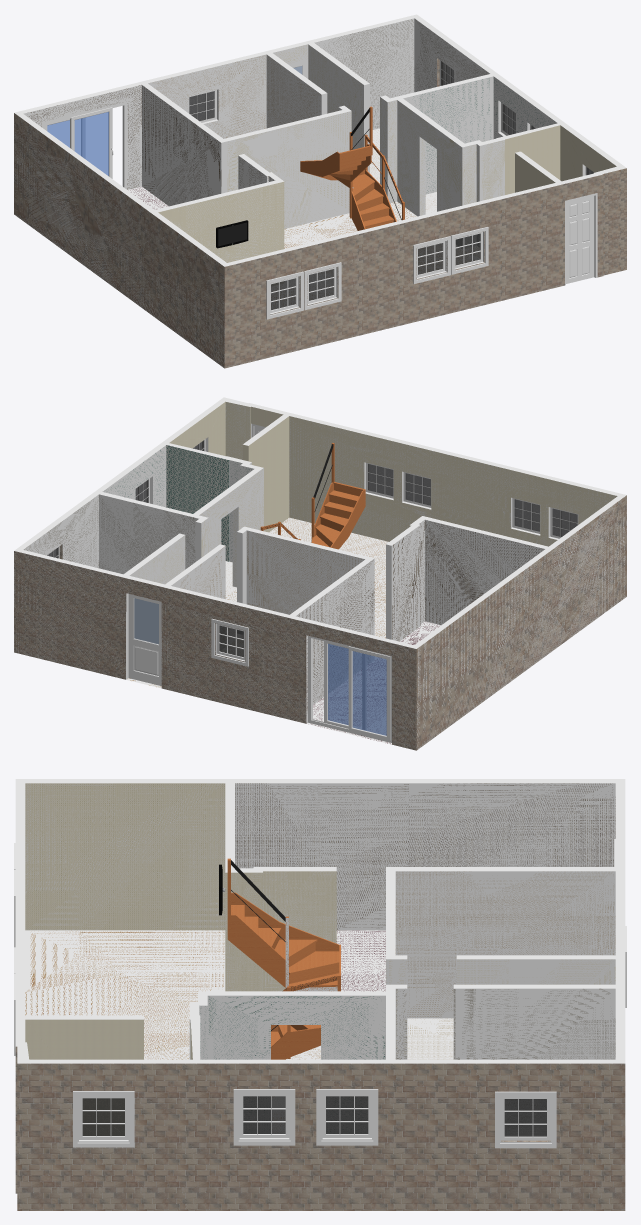
The model's file is robot_house.dae.
3 renders of one model, top to bottom at view 1: azimuth 30°, elevation 25°; view 2: azimuth 150°, elevation 25°; view 3: azimuth 270°, elevation 25°, orthographic. The views are drawn at different scales.
Parts seen in each view (by area): view 1: SketchUp (×11), Escalier_en_U, Porte_droite (×2), Awning_window_with_mullions_32_in._x_32_in. (×4), Panel_Door, Baie_vitrée, group_5; view 2: SketchUp (×12), Porte_gauche (×3), Porte_droite (×3), Escalier_en_U, Frosted_Glass, Baie_vitrée, Awning_window_with_mullions_32_in._x_32_in., R_RAIL; view 3: SketchUp (×12), Awning_window_with_mullions_32_in._x_32_in. (×8), Escalier_en_U.
Part boxes in pixels (x1,y1,x2,y2): SketchUp (×11): [14, 14, 626, 368]; Escalier_en_U: [300, 106, 404, 230]; Porte_droite (×2): [75, 112, 108, 175]; Awning_window_with_mullions_32_in._x_32_in. (×4): [266, 227, 488, 319]; Panel_Door: [565, 193, 597, 285]; Baie_vitrée: [42, 101, 127, 189]; group_5: [218, 222, 246, 246]; SketchUp (×12): [14, 397, 626, 750]; Porte_gauche (×3): [348, 647, 390, 740]; Porte_droite (×3): [324, 641, 366, 729]; Escalier_en_U: [260, 443, 365, 549]; Frosted_Glass: [134, 598, 158, 644]; Baie_vitrée: [308, 635, 391, 742]; Awning_window_with_mullions_32_in._x_32_in.: [211, 618, 248, 666]; R_RAIL: [128, 594, 133, 679]; SketchUp (×12): [15, 779, 625, 1210]; Awning_window_with_mullions_32_in._x_32_in. (×8): [73, 1089, 556, 1148]; Escalier_en_U: [227, 858, 340, 1059].
Bounding box in the file's own units: 409 × 372 × 149.
